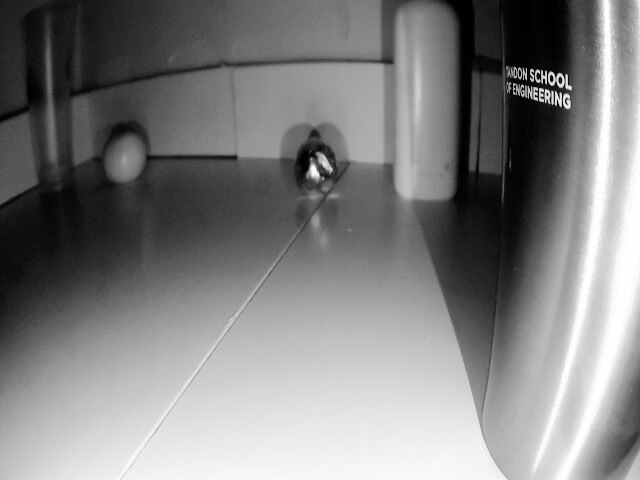black: (291, 142, 337, 205)
